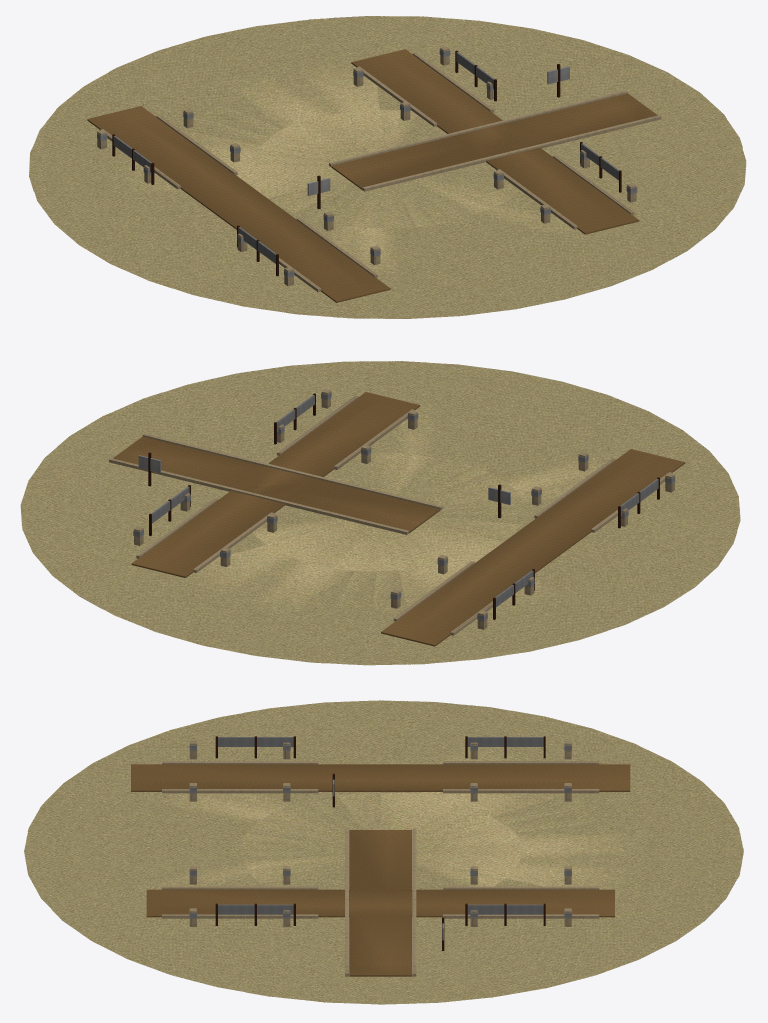
Rendered from road-bronze.glb.
3 views of the same model, one above another, from view 1: azimuth 30°, elevation 25°; view 2: azimuth 150°, elevation 25°; view 3: azimuth 270°, elevation 25° (orthographic).
Visible parts, largest first — view 1: LOD0; view 2: LOD0; view 3: LOD0.
Boxes of the visible parts, x1=… form: LOD0: x1=29, y1=16, x2=746, y2=318; LOD0: x1=20, y1=361, x2=740, y2=665; LOD0: x1=24, y1=700, x2=743, y2=1004.
Size of what is drawn, in the model's own units: 4.74 by 0.2299 by 4.74.
3 materials, 3 textured.
